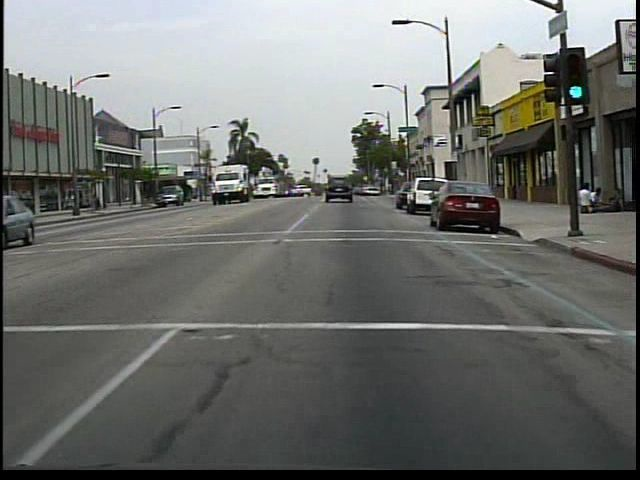person: (573, 181, 592, 216), (92, 191, 103, 213)
